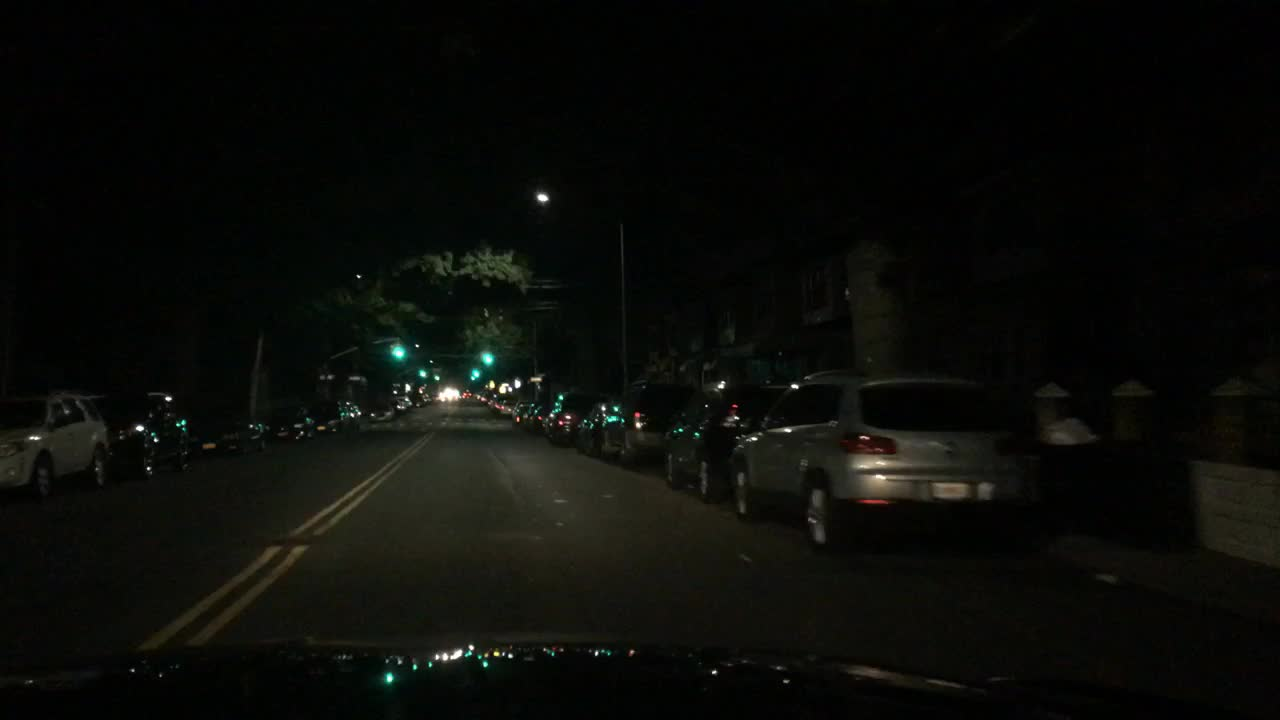car: (726, 368, 1021, 552), (661, 374, 789, 501), (0, 387, 115, 499), (609, 374, 715, 469), (87, 391, 161, 475), (574, 396, 641, 455), (150, 392, 195, 470), (545, 390, 594, 440), (192, 412, 242, 454), (271, 399, 314, 442), (236, 413, 278, 449), (314, 397, 343, 432), (367, 400, 398, 421), (512, 399, 532, 424), (344, 401, 364, 425), (337, 401, 354, 424), (529, 403, 545, 426), (498, 396, 514, 416), (389, 396, 406, 414), (396, 393, 413, 409), (381, 399, 399, 413), (443, 389, 460, 403), (432, 389, 447, 404), (419, 391, 434, 403), (412, 394, 427, 406), (492, 391, 502, 408), (479, 389, 490, 404), (485, 391, 494, 408), (459, 386, 470, 399), (469, 389, 479, 403), (474, 386, 483, 401)
traffic light: (390, 344, 411, 366), (477, 351, 496, 368), (470, 368, 481, 380)
